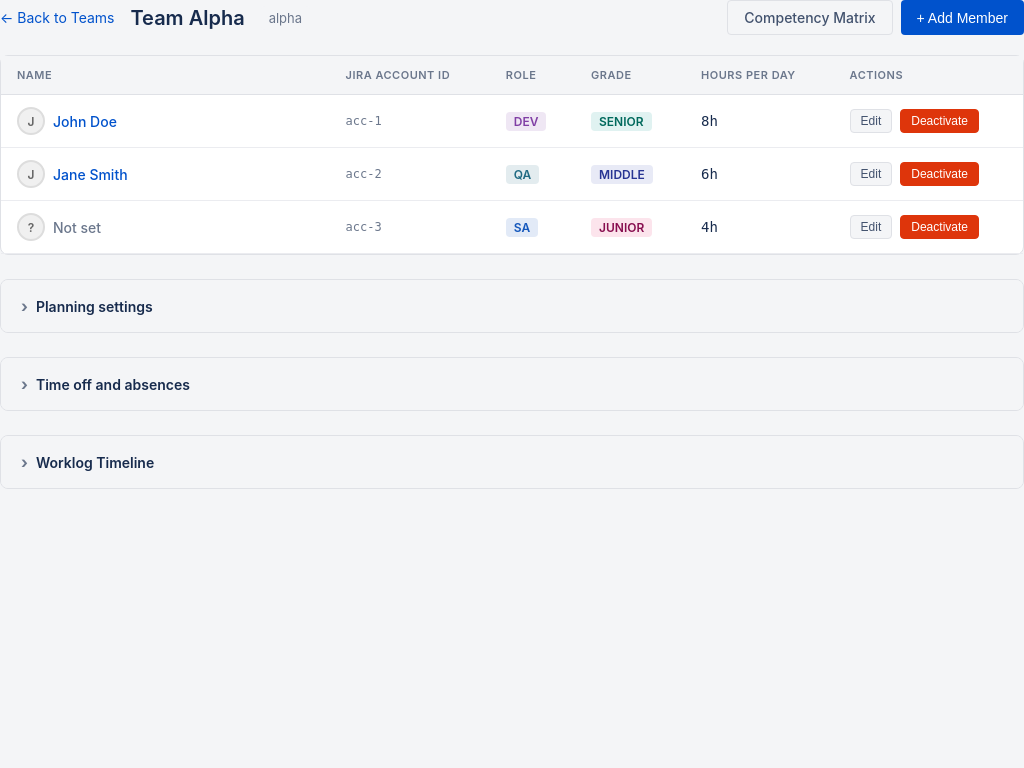
it: TeamMembersPage › Add Member modal › should open modal on Add Member click
This screenshot has width=1024, height=768.
Click the button "+ Add Member". click: point(962, 18)
box: x1=901 y1=0 x2=1023 y2=35
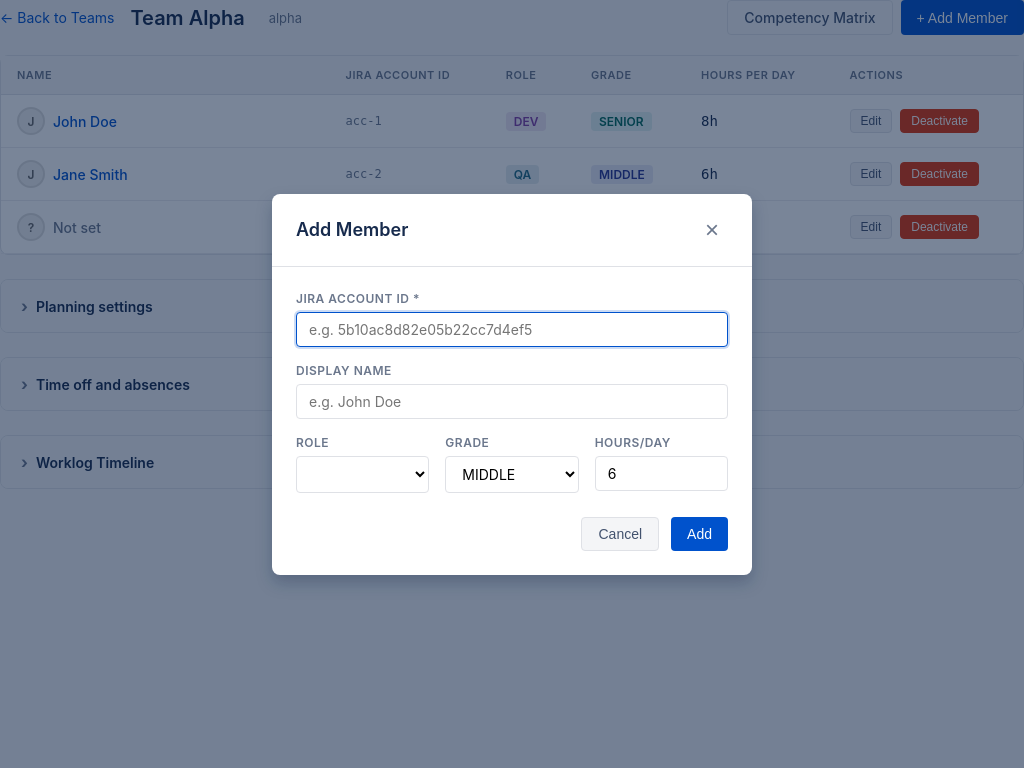
Check: the heading "Add Member" is shown, box x1=296 y1=219 x2=408 y2=240
